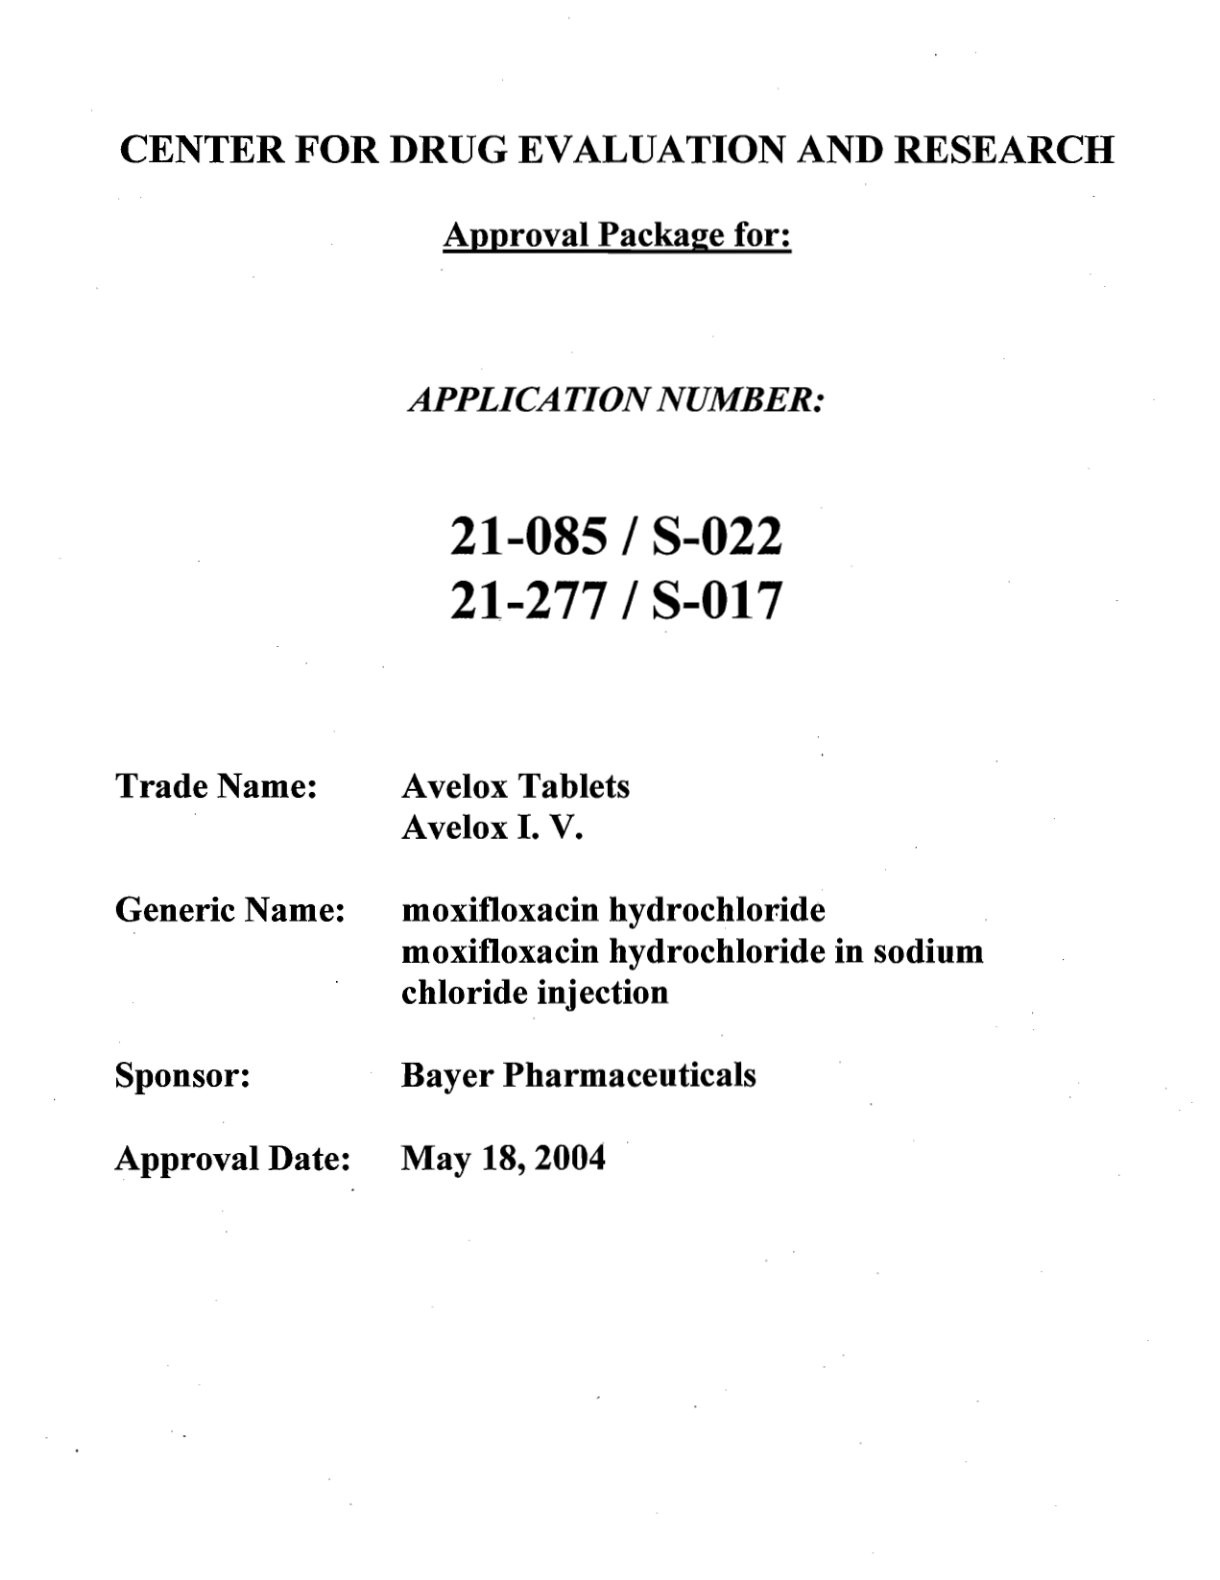nolines: (111, 768, 988, 1183)
